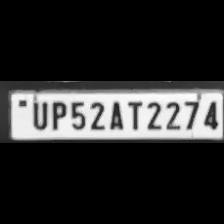2: (86, 97, 106, 130), (144, 99, 162, 131), (162, 99, 180, 131)
4: (198, 98, 220, 130)
5: (66, 99, 86, 131)
7: (180, 98, 198, 130)
A: (106, 97, 124, 130)
P: (48, 99, 66, 131)
T: (124, 97, 144, 130)
U: (28, 98, 48, 130)
